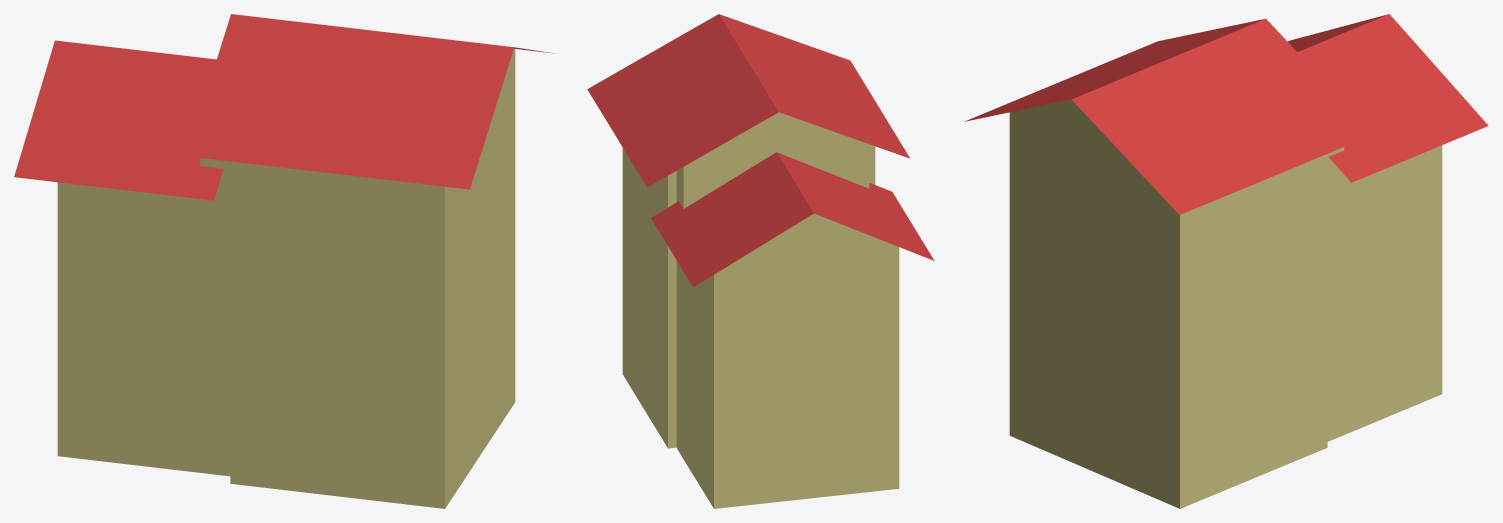
The picture shows the model from 3 angles, left to right: view 1: azimuth 30°, elevation 25°; view 2: azimuth 150°, elevation 25°; view 3: azimuth 270°, elevation 25°; orthographic projection. The views are drawn at different scales.
Visible parts, largest first — view 1: group_9, group_5, group_7, group_3, group_8, group_4; view 2: group_5, group_7, group_9, group_3, group_8, group_4; view 3: group_9, group_7, group_5, group_3, group_8, group_4.
Boxes of the visible parts, box(x1,y1,x2,y2) form: group_9: box(200, 48, 515, 508); group_5: box(57, 169, 223, 475); group_7: box(186, 14, 479, 186); group_3: box(14, 40, 223, 200); group_8: box(187, 43, 554, 189); group_4: box(14, 41, 209, 199); group_5: box(679, 213, 899, 508); group_7: box(587, 14, 909, 187); group_9: box(622, 112, 875, 450); group_3: box(651, 152, 934, 287); group_8: box(648, 14, 909, 186); group_4: box(652, 195, 931, 285); group_9: box(1009, 99, 1344, 508); group_7: box(1011, 18, 1373, 214); group_5: box(1328, 145, 1442, 441); group_3: box(1287, 14, 1488, 182); group_8: box(964, 41, 1373, 133); group_4: box(1289, 16, 1486, 182).
Size of the model in its own units: 15.78 by 15.96 by 12.82.
